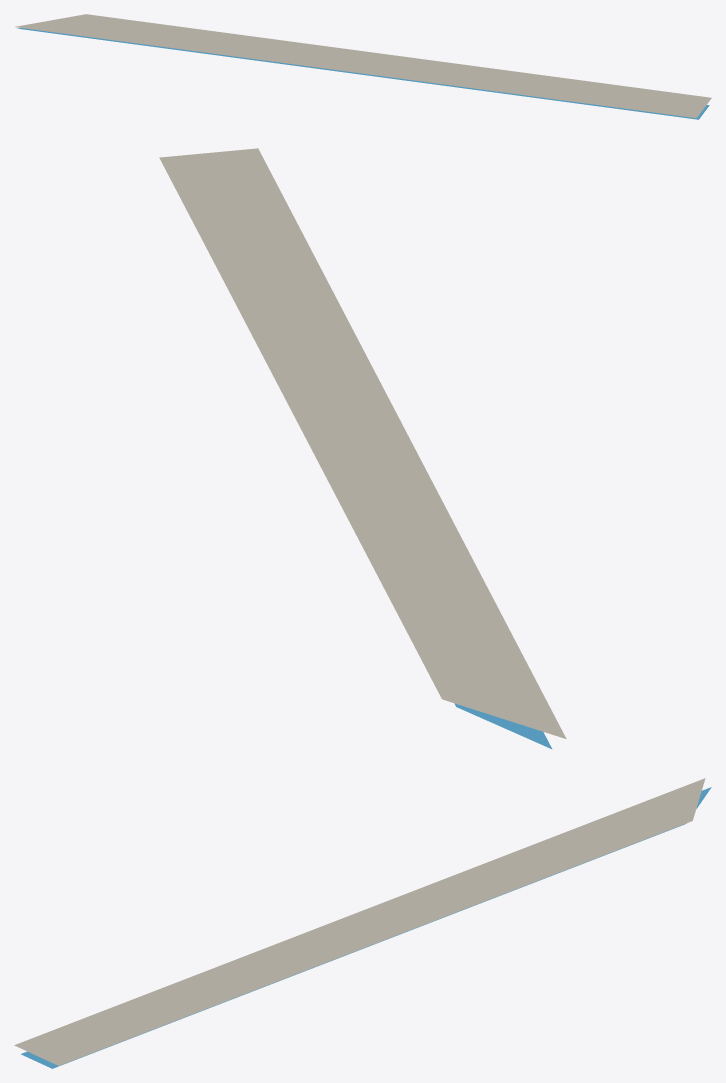
3 views of the same model, one above another, from view 1: azimuth 30°, elevation 25°; view 2: azimuth 150°, elevation 25°; view 3: azimuth 270°, elevation 25° (orthographic). The views are drawn at different scales.
Parts seen in each view (by area): view 1: estructura_terreno, estructura_agua; view 2: estructura_terreno; view 3: estructura_terreno, estructura_agua.
Boxes of the visible parts, x1,y1,x2,y2 form: estructura_terreno: (15, 14, 711, 118); estructura_agua: (17, 28, 709, 119); estructura_terreno: (159, 148, 566, 738); estructura_terreno: (14, 778, 705, 1065); estructura_agua: (20, 787, 711, 1068).
Bounding box in the file's own units: 43.11 × 0.41 × 44.15.
